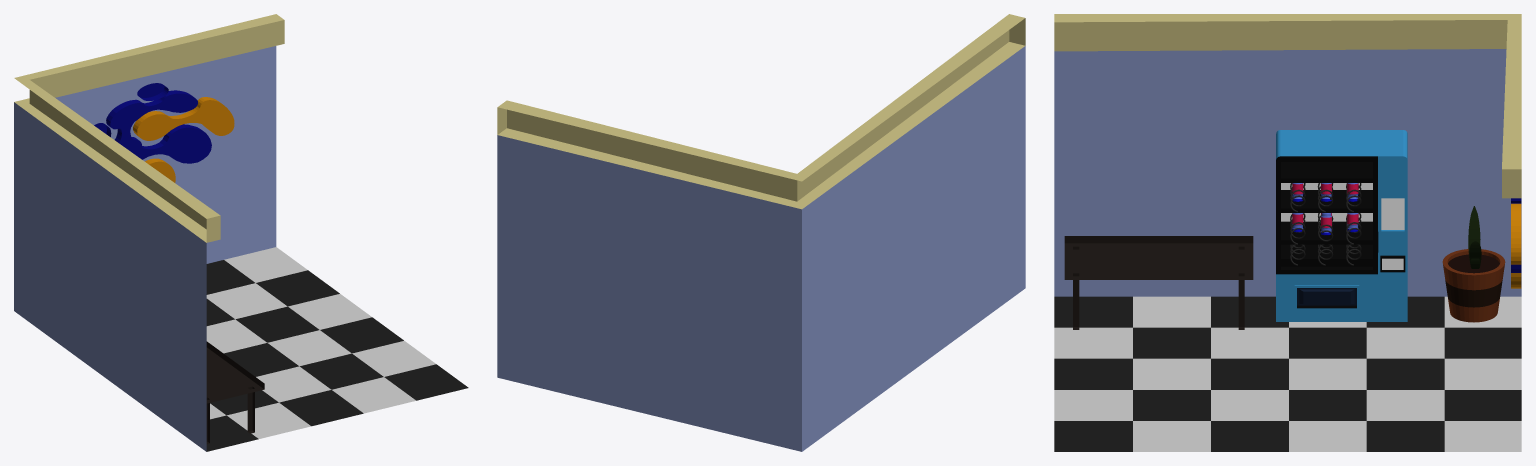
Rendered from AnimatedObject0010.obj.
The picture shows the model from 3 angles, left to right: view 1: azimuth 30°, elevation 25°; view 2: azimuth 150°, elevation 25°; view 3: azimuth 270°, elevation 25°; orthographic projection. The views are drawn at different scales.
Parts seen in each view (by area): view 1: ruangan_Cube.003, meja_Cube.004, logo_Circle.005, logo.001_Circle.001, logo.005_Circle.002; view 2: ruangan_Cube.003; view 3: ruangan_Cube.003, vending_machine_Cube.001, meja_Cube.004, pot_bunga_Cylinder, per_second\_Spiral.010, Plane.007, logo_Circle.005.
Part boxes in pixels (x1,y1,x2,y2): ruangan_Cube.003: (14, 14, 468, 451); meja_Cube.004: (206, 341, 264, 444); logo_Circle.005: (133, 97, 234, 140); logo.001_Circle.001: (115, 124, 211, 163); logo.005_Circle.002: (106, 90, 197, 132); ruangan_Cube.003: (497, 14, 1025, 451); ruangan_Cube.003: (1054, 14, 1521, 451); vending_machine_Cube.001: (1276, 130, 1407, 321); meja_Cube.004: (1064, 236, 1253, 329); pot_bunga_Cylinder: (1442, 249, 1505, 322); per_second\_Spiral.010: (1290, 183, 1361, 265); Plane.007: (1468, 206, 1481, 268); logo_Circle.005: (1511, 203, 1521, 264).
Bounding box in the file's own units: 11.73 × 9.95 × 14.9.
